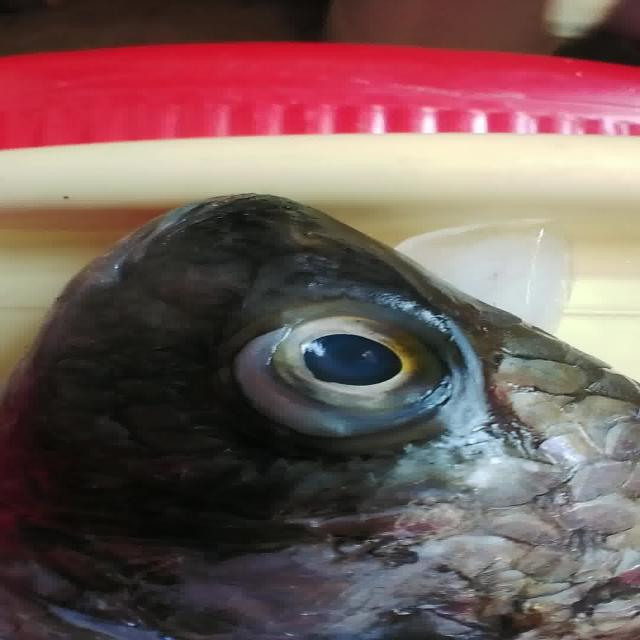Fresh: (210, 294, 475, 450)
